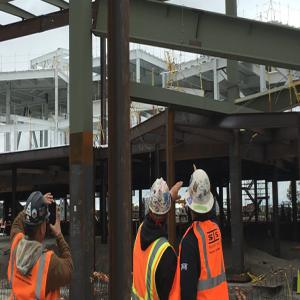white: (188, 170, 213, 219), (149, 178, 173, 224)
